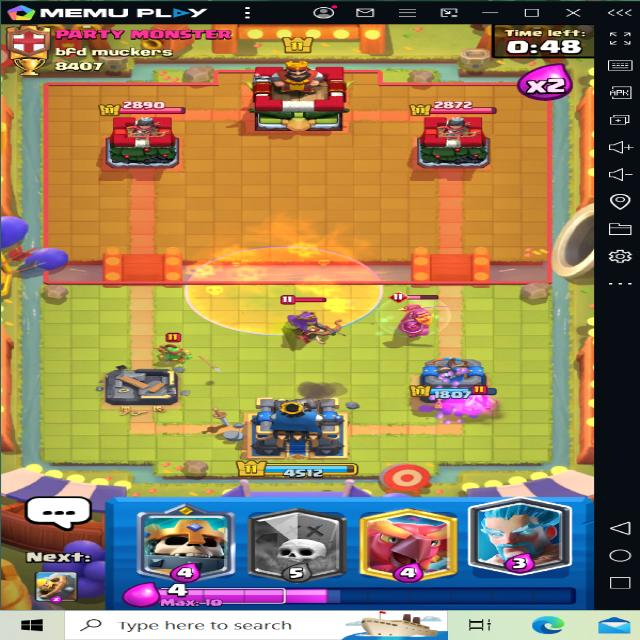archer-queen: (268, 288, 344, 349)
evo-knight: (378, 287, 476, 343)
goblin: (464, 383, 503, 415)
spear-goblin: (136, 328, 203, 372)
